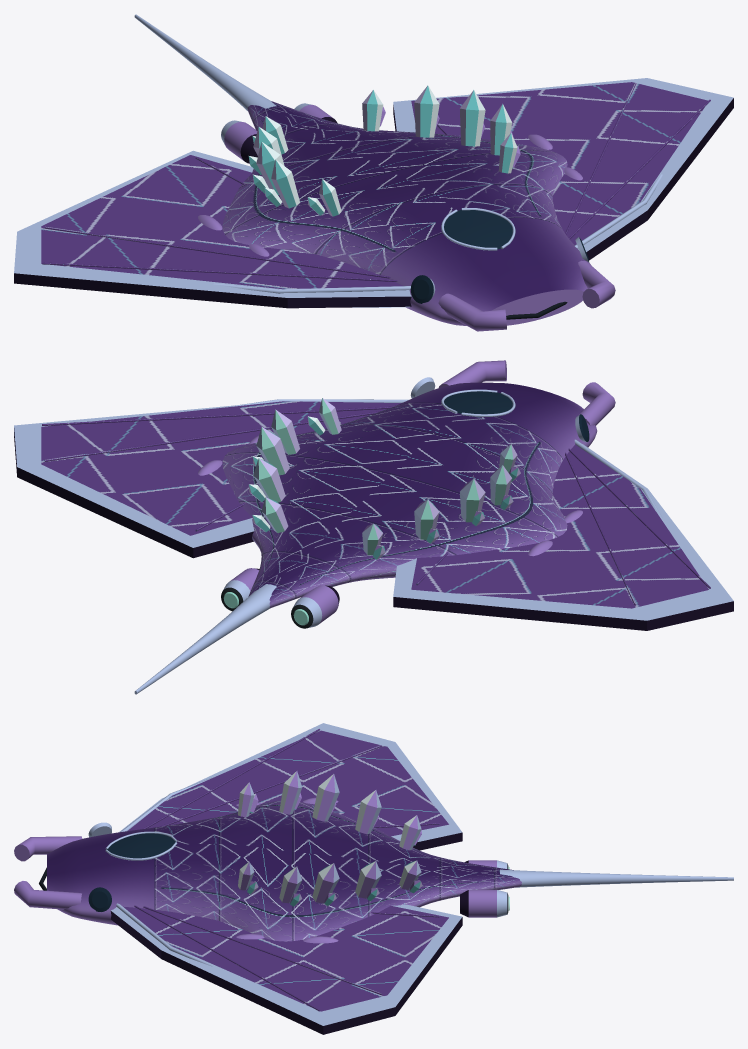
3 renders of one model, top to bottom at view 1: azimuth 30°, elevation 25°; view 2: azimuth 150°, elevation 25°; view 3: azimuth 270°, elevation 25°, orthographic. The views are drawn at different scales.
Visible parts, largest first — view 1: manta_ray_hull; view 2: manta_ray_hull; view 3: manta_ray_hull.
Boxes of the visible parts, x1=… form: manta_ray_hull: x1=14, y1=14, x2=733, y2=331; manta_ray_hull: x1=14, y1=360, x2=733, y2=694; manta_ray_hull: x1=14, y1=723, x2=733, y2=1034.
Size of the model in its own units: 81.66 by 12.06 by 82.
1 material, 1 textured.
